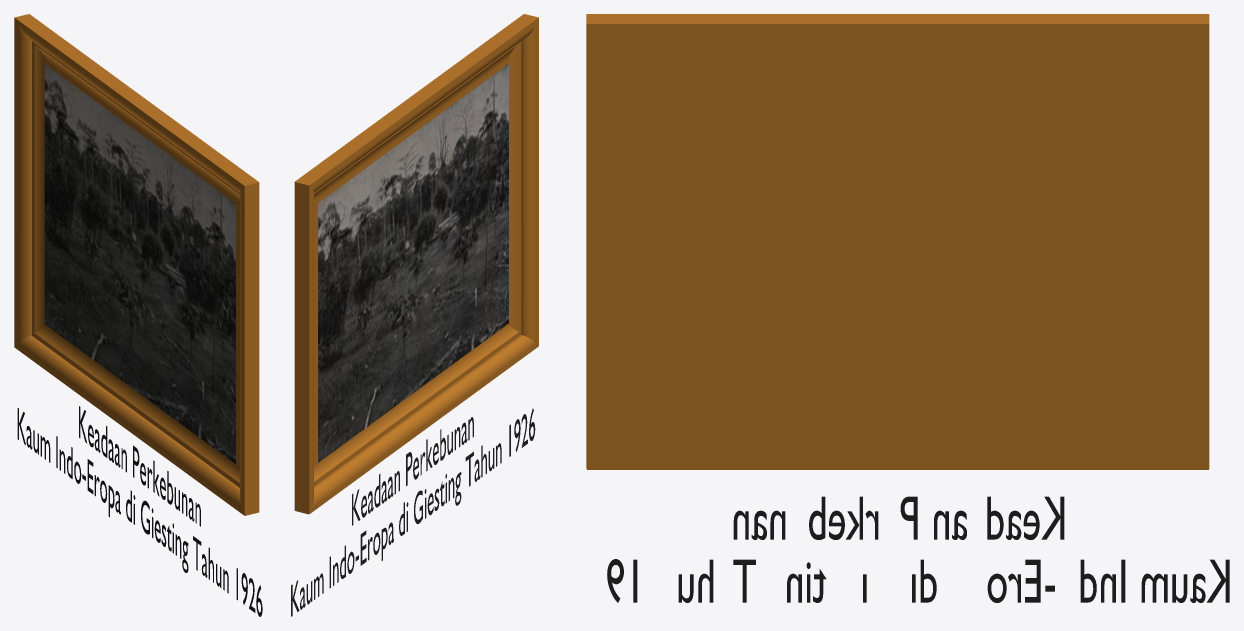
Rendered from kebon.glb.
The picture shows the model from 3 angles, left to right: view 1: azimuth 30°, elevation 25°; view 2: azimuth 150°, elevation 25°; view 3: azimuth 270°, elevation 25°; orthographic projection. The views are drawn at different scales.
Visible parts, largest first — view 1: 1, 1t; view 2: 1, 1t; view 3: 1, 1t.
Boxes of the visible parts, x1,y1,x2,y2 form: 1: (14, 14, 259, 515); 1t: (17, 406, 262, 616); 1: (294, 14, 538, 514); 1t: (291, 408, 535, 616); 1: (586, 14, 1209, 469); 1t: (607, 496, 1229, 602).
Size of the model in its own units: 8.98 by 254 by 256.
4 materials, 1 textured.
